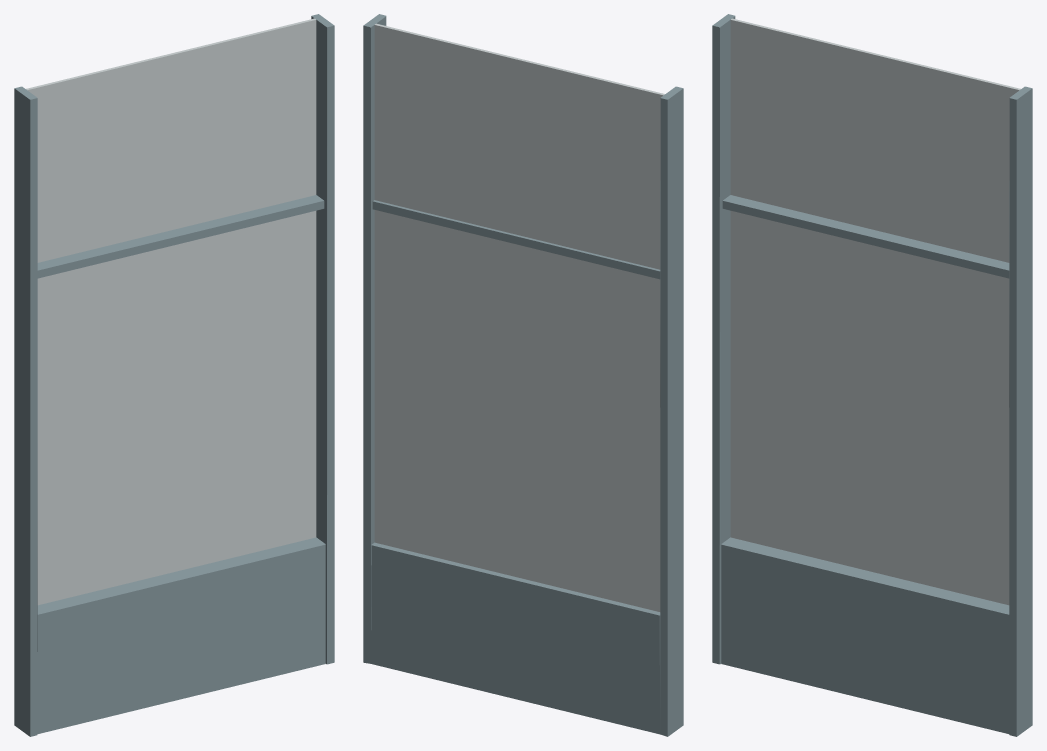
The model's file is curtain_wall.glb.
3 renders of one model, left to right at view 1: azimuth 30°, elevation 25°; view 2: azimuth 150°, elevation 25°; view 3: azimuth 330°, elevation 25°, orthographic.
Parts seen in each view (by area): view 1: curtain_wall_glass, curtain_wall_frame2; view 2: curtain_wall_glass, curtain_wall_frame2; view 3: curtain_wall_glass, curtain_wall_frame2.
Boxes of the visible parts, x1,y1,x2,y2 form: curtain_wall_glass: (26,18,316,605); curtain_wall_frame2: (14,14,334,736); curtain_wall_glass: (374,23,664,611); curtain_wall_frame2: (363,14,683,736); curtain_wall_glass: (730,18,1020,605); curtain_wall_frame2: (712,14,1032,736).
Bounding box in the file's own units: 2 × 4 × 0.18.
